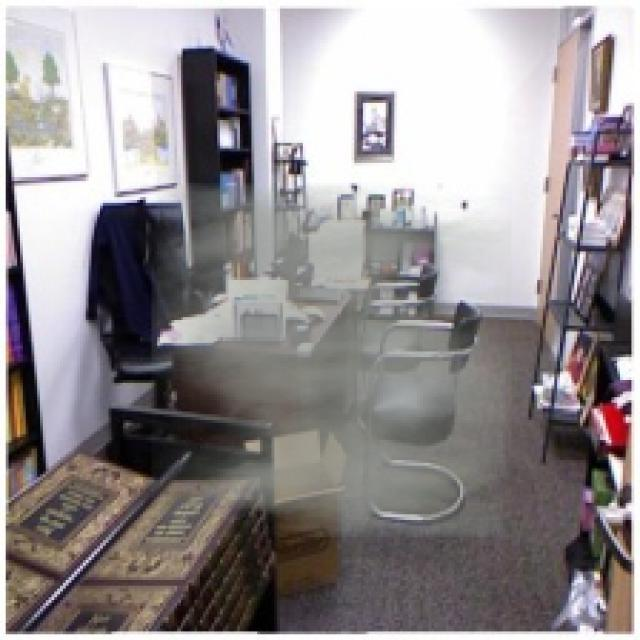smoke: (152, 183, 512, 537)
